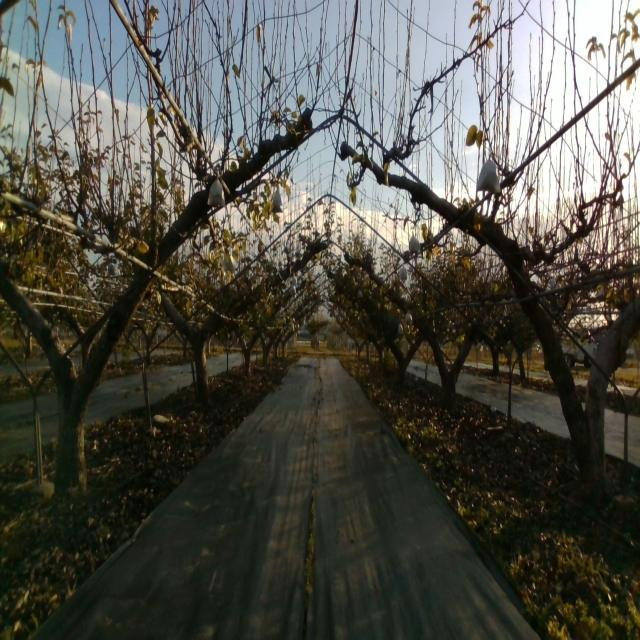pearbags: (476, 151, 502, 194), (207, 172, 226, 209), (408, 230, 422, 256), (271, 189, 284, 214), (223, 253, 236, 273)
